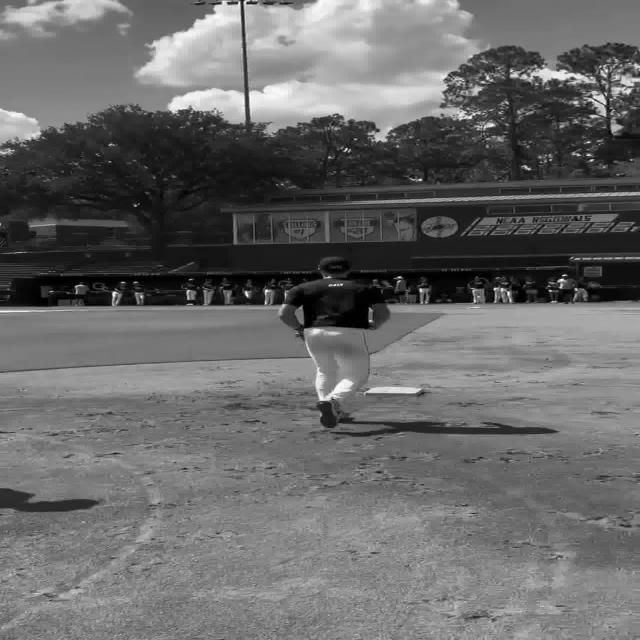base: (365, 386, 425, 396)
shoe: (316, 400, 353, 428)
